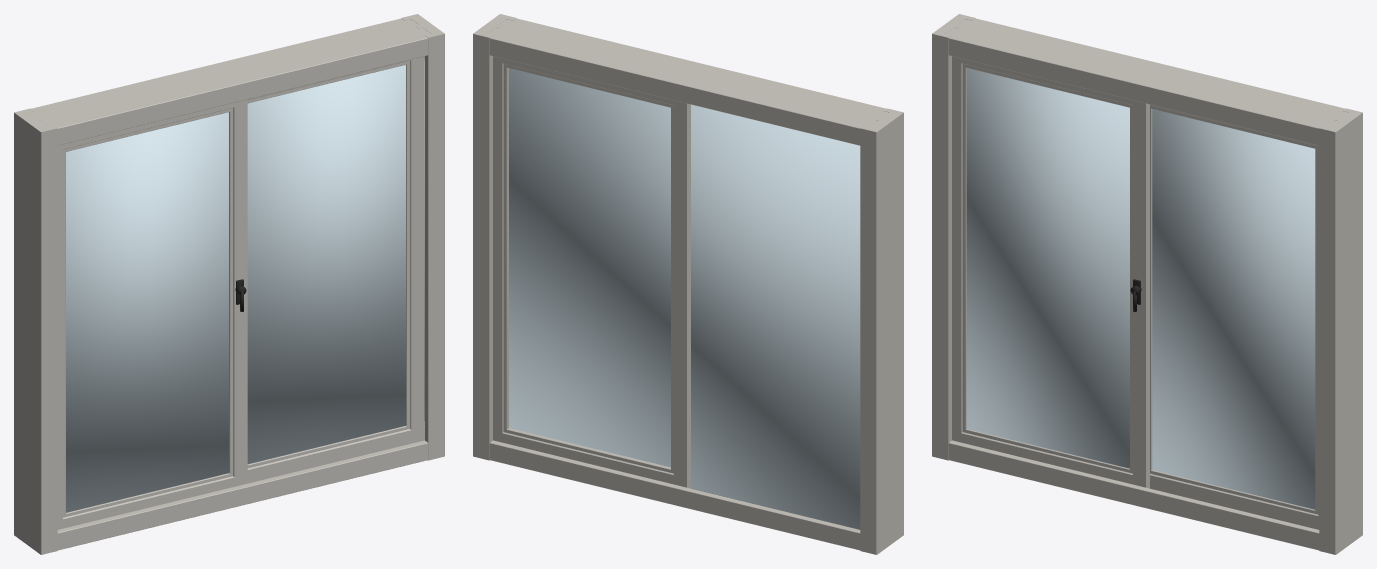
Rendered from window.glb.
The picture shows the model from 3 angles, left to right: view 1: azimuth 30°, elevation 25°; view 2: azimuth 150°, elevation 25°; view 3: azimuth 330°, elevation 25°; orthographic projection.
Parts seen in each view (by area): view 1: glass_l, glass_r, jamb_l, head, jamb_r, sill, in_r_sb, in_l_sb, in_l_sa, in_r_low, in_l_low, in_l_top (+1 smaller); view 2: glass_out, jamb_l, head, jamb_r, sill, out_r_sa, out_r_sb, out_r_low, out_r_top; view 3: glass_r, glass_l, jamb_r, head, jamb_l, sill, in_l_sb, in_l_sa, in_r_low, in_l_low, in_r_sb, in_l_top (+2 smaller).
Boxes of the visible parts, x1,y1,x2,y2 form: glass_l: [66, 112, 228, 512]; glass_r: [247, 60, 424, 464]; jamb_l: [14, 108, 57, 554]; head: [28, 18, 430, 145]; jamb_r: [401, 14, 444, 460]; sill: [57, 440, 428, 550]; in_r_sb: [406, 56, 424, 443]; in_l_sb: [229, 99, 247, 486]; in_l_sa: [57, 145, 65, 529]; in_r_low: [247, 421, 424, 483]; in_l_low: [63, 473, 239, 528]; in_l_top: [57, 102, 239, 151]; glass_out: [509, 68, 860, 529]; jamb_l: [860, 108, 903, 554]; head: [487, 18, 889, 145]; jamb_r: [473, 14, 516, 460]; sill: [489, 440, 860, 550]; out_r_sa: [671, 101, 690, 488]; out_r_sb: [493, 57, 508, 442]; out_r_low: [493, 428, 678, 485]; out_r_top: [493, 56, 678, 107]; glass_r: [1152, 109, 1315, 509]; glass_l: [966, 68, 1129, 468]; jamb_r: [1319, 108, 1362, 554]; head: [946, 18, 1348, 145]; jamb_l: [932, 14, 975, 460]; sill: [948, 440, 1319, 550]; in_l_sb: [1130, 101, 1149, 488]; in_l_sa: [952, 57, 966, 442]; in_r_low: [1150, 470, 1319, 529]; in_l_low: [952, 429, 1137, 485]; in_r_sb: [1315, 146, 1319, 516]; in_l_top: [952, 56, 1137, 107].
Bounding box in the file's own units: 1.2 × 1.2 × 0.14.
